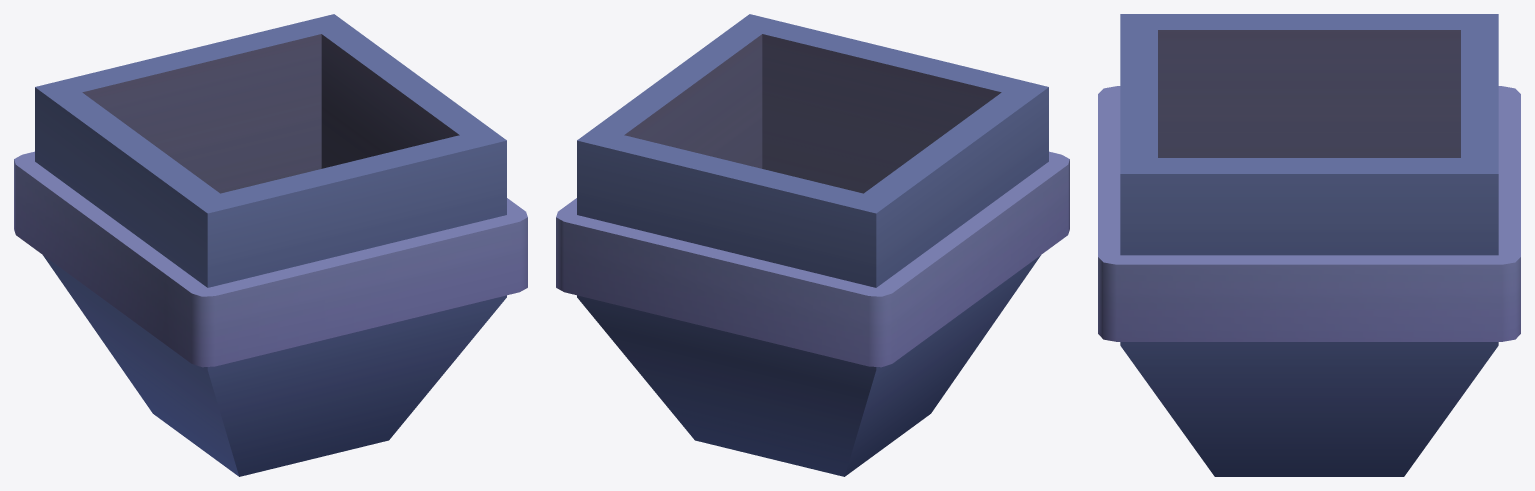
File: hopper-square.glb
3 views of the same model, side by side, from view 1: azimuth 30°, elevation 25°; view 2: azimuth 150°, elevation 25°; view 3: azimuth 270°, elevation 25° (orthographic). The views are drawn at different scales.
Parts seen in each view (by area): view 1: hopper-square; view 2: hopper-square; view 3: hopper-square.
Part boxes in pixels (left/top/right/bottom): hopper-square: left=14, top=14, right=527, bottom=476; hopper-square: left=556, top=14, right=1069, bottom=476; hopper-square: left=1098, top=14, right=1520, bottom=476.
Bounding box in the file's own units: 1.12 × 1 × 1.12.
Materials: 1 (1 with a texture image).
